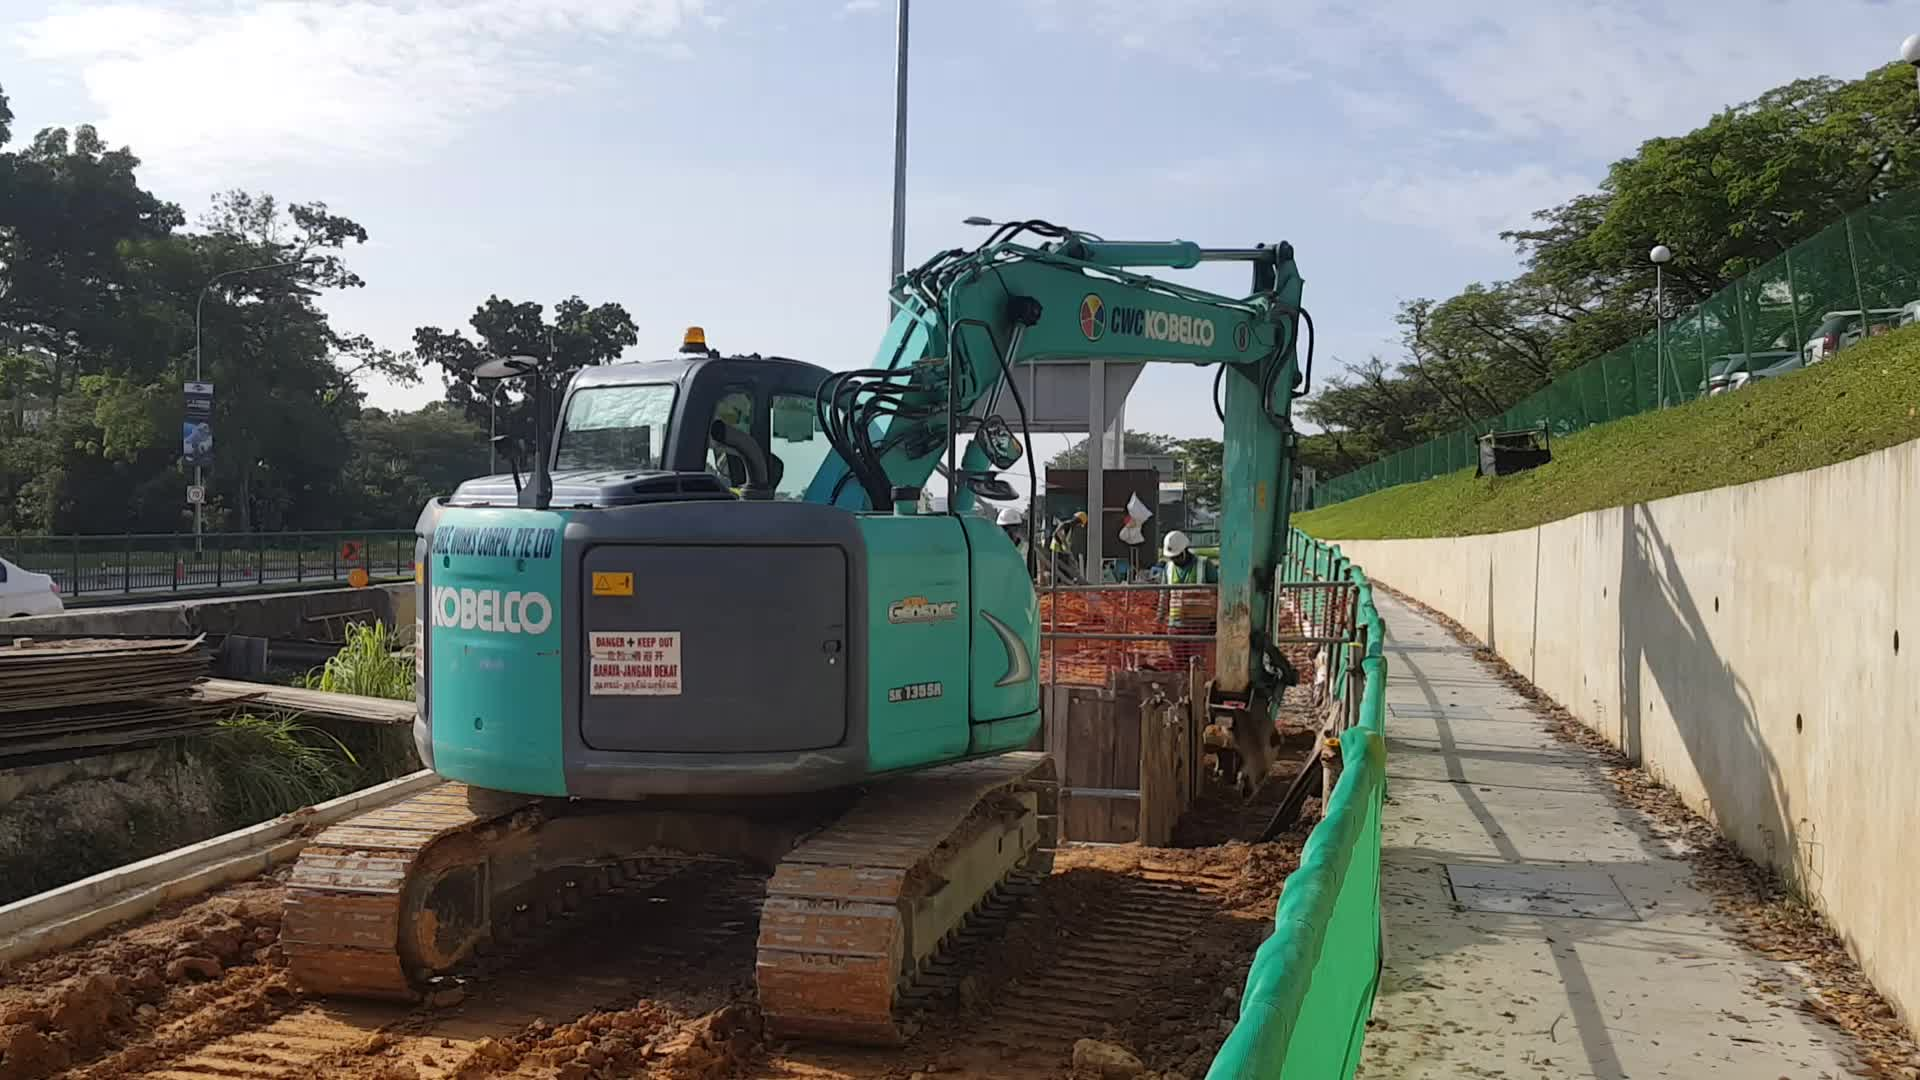cabin: (402, 352, 1055, 783)
forearm: (1212, 244, 1320, 696)
upperarm: (803, 252, 1273, 502)
wheelbase: (258, 753, 1063, 1048)
